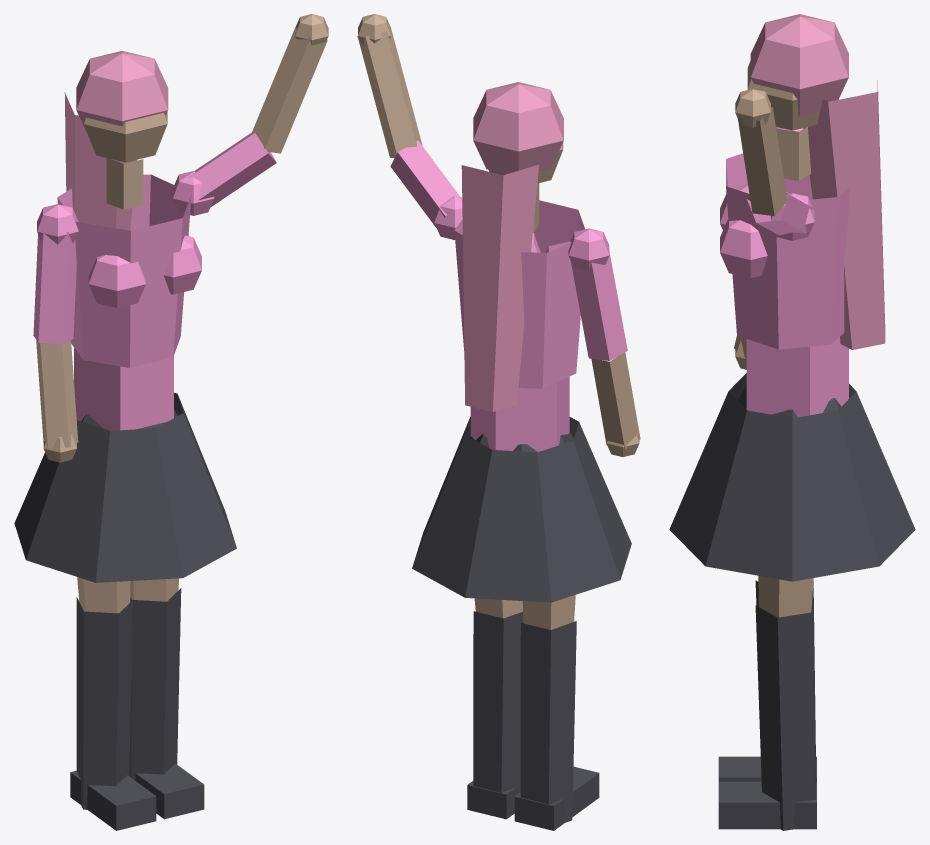
File: angel_wave.glb
The picture shows the model from 3 angles, left to right: view 1: azimuth 30°, elevation 25°; view 2: azimuth 150°, elevation 25°; view 3: azimuth 270°, elevation 25°; orthographic projection. The views are drawn at different scales.
Visible parts, largest first — view 1: angel_wave; view 2: angel_wave; view 3: angel_wave.
Boxes of the visible parts, box(x1,y1,x2,y2) form: angel_wave: box(14, 14, 328, 830); angel_wave: box(357, 14, 640, 830); angel_wave: box(669, 14, 915, 830).
Bounding box in the file's own units: 0.6783 × 1.71 × 0.475.
